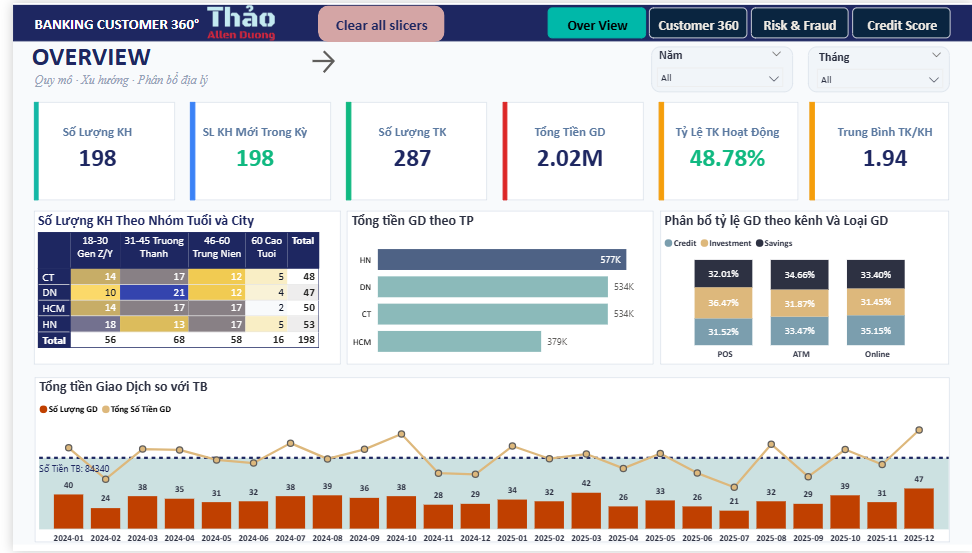

The page's visual inventory and layout, read from the dashboard file:
{"tool":"powerbi","page":{"name":"Overview","canvas":[1280,730],"ordinal":0},"visuals":[{"type":"shape","box":[407,2.5,168.8,48.8],"z":0,"group":"g1"},{"type":"cardVisual","fields":{"Data":["_measure.SL_KH_co_san_v3","_measure.SL_KH_moi_trong_ky","_measure.SL_TK_mo_trong_thang","_measure.TT_GD","_measure.%_TK_HD_v2","_measure.TB_TK_per_KH_v2"]},"box":[7.1,108.6,1265.7,170],"z":0},{"type":"clusteredBarChart","title":"Tổng tiền GD theo TP","fields":{"Y":["_measure.TT_GD"],"Category":["dim_customers.city"]},"box":[446.7,278.9,408.9,207.8],"z":0,"group":"g2"},{"type":"actionButton","box":[712.5,7.9,132.1,41.7],"z":1000},{"type":"actionButton","box":[401.2,11.9,180,31.2],"z":1000,"group":"g1"},{"type":"hundredPercentStackedColumnChart","title":"Phân bổ tỷ lệ GD theo kênh Và Loại GD","fields":{"Category":["fact_transactions.channel"],"Y":["_measure.%_GD_theo_kenh"],"Series":["dim_accounts.account_type"]},"box":[864.3,278.6,375.7,207.1],"z":1000,"group":"g2"},{"type":"pivotTable","title":"Số Lượng KH Theo Nhóm Tuổi và City","fields":{"Rows":["dim_customers.city"],"Values":["_measure.SL_KH_co_san_v3"],"Columns":["dim_customers.age_group"]},"box":[28.8,278.8,406.2,202.5],"z":2000,"group":"g2"},{"type":"lineClusteredColumnComboChart","title":"Tổng tiền Giao Dịch so với TB","fields":{"Category":["dim_date.Thang_text"],"Y2":["_measure.TT_GD"],"Y":["_measure.SL_GD"]},"box":[30,500,1222.9,230],"z":2000},{"type":"actionButton","title":"Mủi tên Biểu Đồ Phụ","box":[392.5,58.8,45,40],"z":3000},{"type":"group","id":"g1","title":"Clear all Slicer","box":[401.2,2.5,180,48.8],"z":6000},{"type":"actionButton","box":[847.9,8.3,131.7,41.2],"z":8000},{"type":"actionButton","box":[982.9,8.3,132.1,41.2],"z":9000},{"type":"actionButton","box":[1119.7,7.9,131.4,41.7],"z":10000},{"type":"slicer","fields":{"Values":["dim_date.Nam"]},"box":[847.5,55,188.8,66.2],"z":11000},{"type":"slicer","fields":{"Values":["dim_date.TenThang"]},"box":[1061.2,56.2,188.8,66.2],"z":12000},{"type":"group","id":"g2","title":"Group 1","box":[28.8,278.6,1211.2,208.1],"z":13000}]}

Visuals, with their boxes in screenshot pixels (x1, y1, x2, y2), scaled from the page's 1280x730 canvas onto the 972x553 screenshot:
shape: box=[309, 2, 437, 39]
cardVisual - _measure.SL_KH_co_san_v3 x _measure.SL_KH_moi_trong_ky: box=[5, 82, 967, 211]
"Tổng tiền GD theo TP" clusteredBarChart: box=[339, 211, 650, 369]
actionButton: box=[541, 6, 641, 38]
actionButton: box=[305, 9, 441, 33]
"Phân bổ tỷ lệ GD theo kênh Và Loại GD" hundredPercentStackedColumnChart: box=[656, 211, 942, 368]
"Số Lượng KH Theo Nhóm Tuổi và City" pivotTable: box=[22, 211, 330, 365]
"Tổng tiền Giao Dịch so với TB" lineClusteredColumnComboChart: box=[23, 379, 951, 552]
"Mủi tên Biểu Đồ Phụ" actionButton: box=[298, 45, 332, 75]
"Clear all Slicer" group: box=[305, 2, 441, 39]
actionButton: box=[644, 6, 744, 37]
actionButton: box=[746, 6, 847, 37]
actionButton: box=[850, 6, 950, 38]
slicer - dim_date.Nam: box=[644, 42, 787, 92]
slicer - dim_date.TenThang: box=[806, 43, 949, 93]
"Group 1" group: box=[22, 211, 942, 369]
